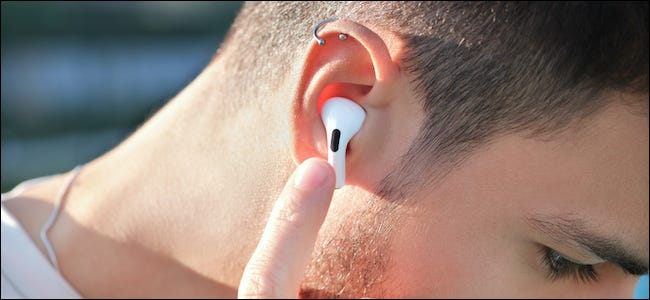earphone: (288, 18, 395, 189)
